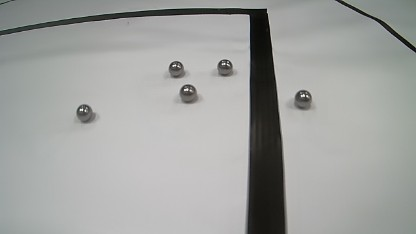ironball: (294, 90, 312, 108), (179, 84, 197, 102), (76, 104, 93, 122), (217, 59, 233, 75), (168, 61, 184, 77)
